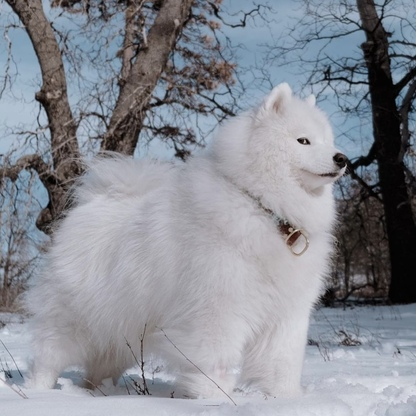samoyed: (21, 78, 353, 405)
